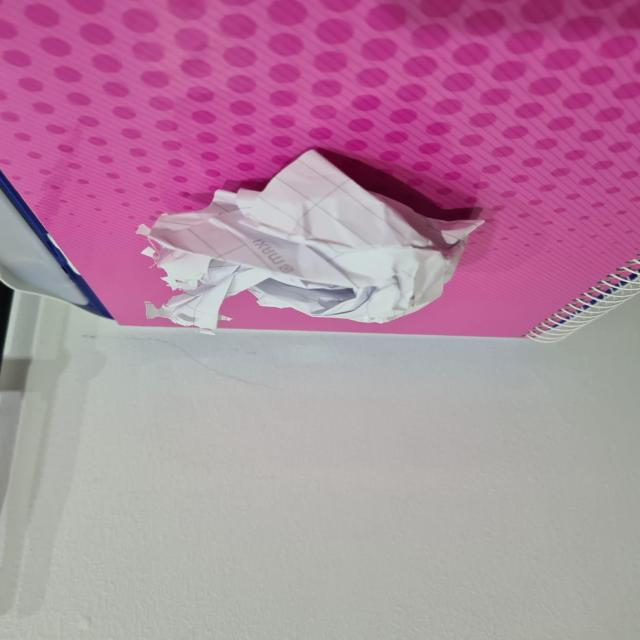kertas: (154, 185, 442, 328)
